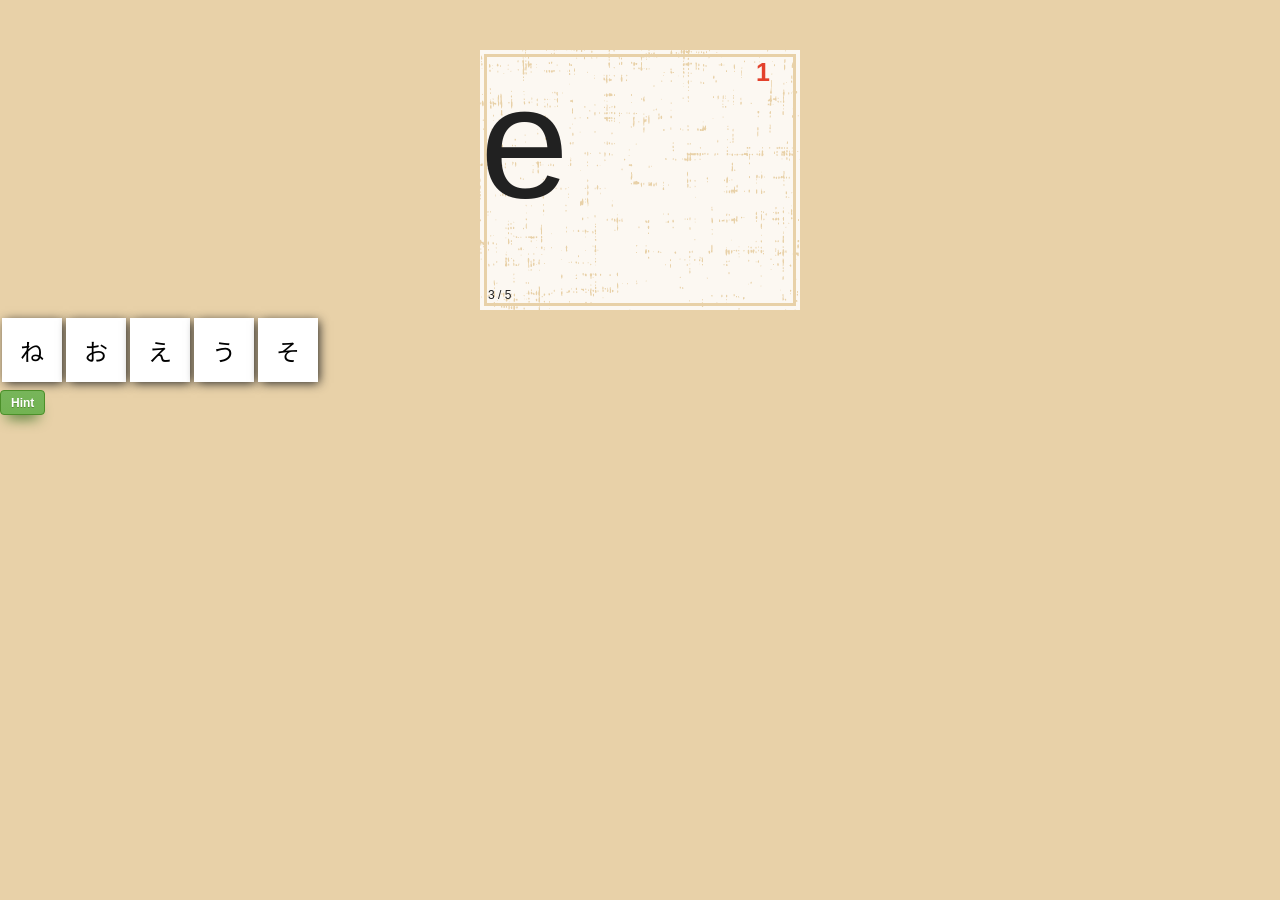
Test: Game page › lists the wrong answers at the end of the game
The image size is (1280, 900).
Earlier steps of the test are not shown.
Click the button "え" at (160, 350), box [130, 318, 190, 382]
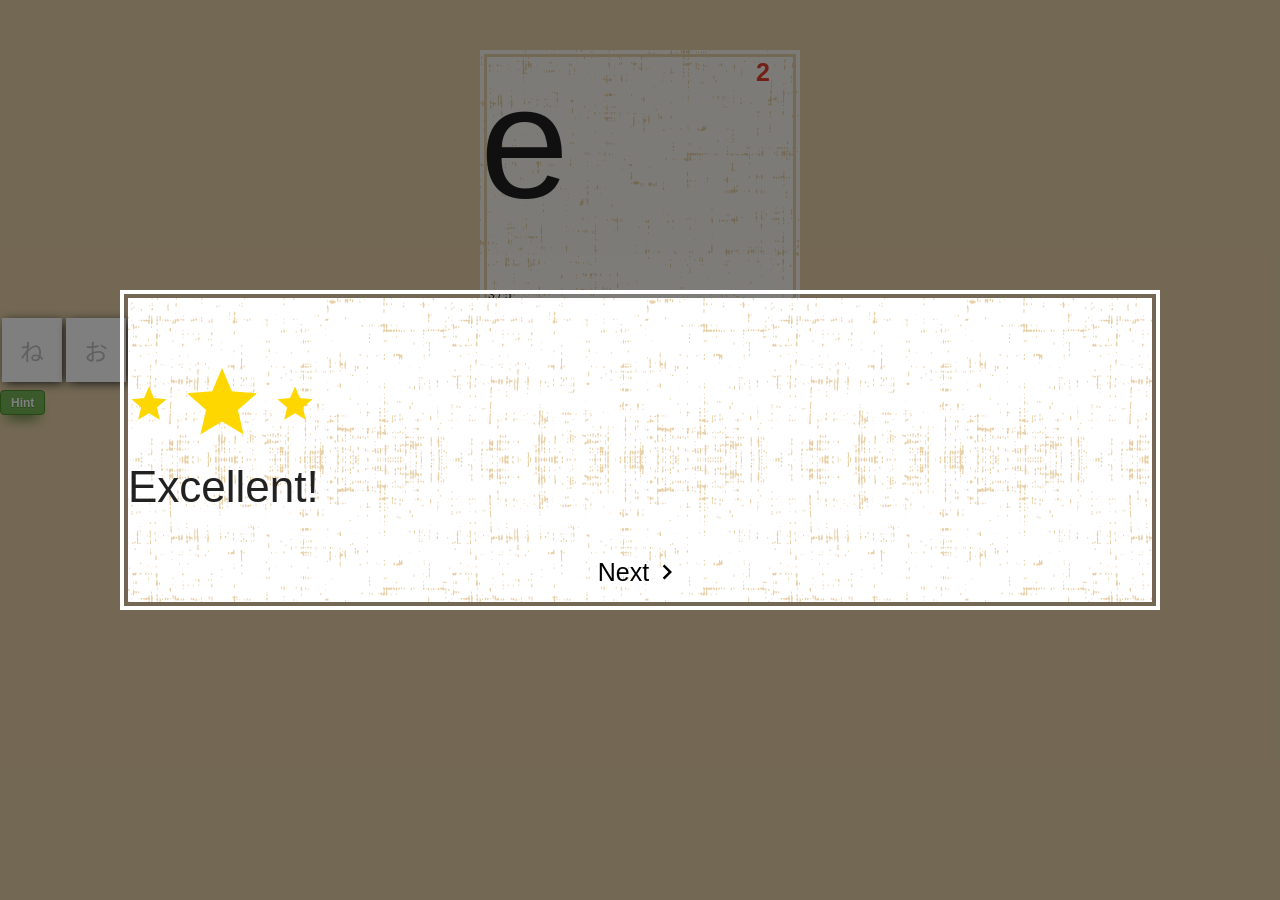
Click the button with class "next-question-button" at (640, 572), box [565, 542, 715, 602]
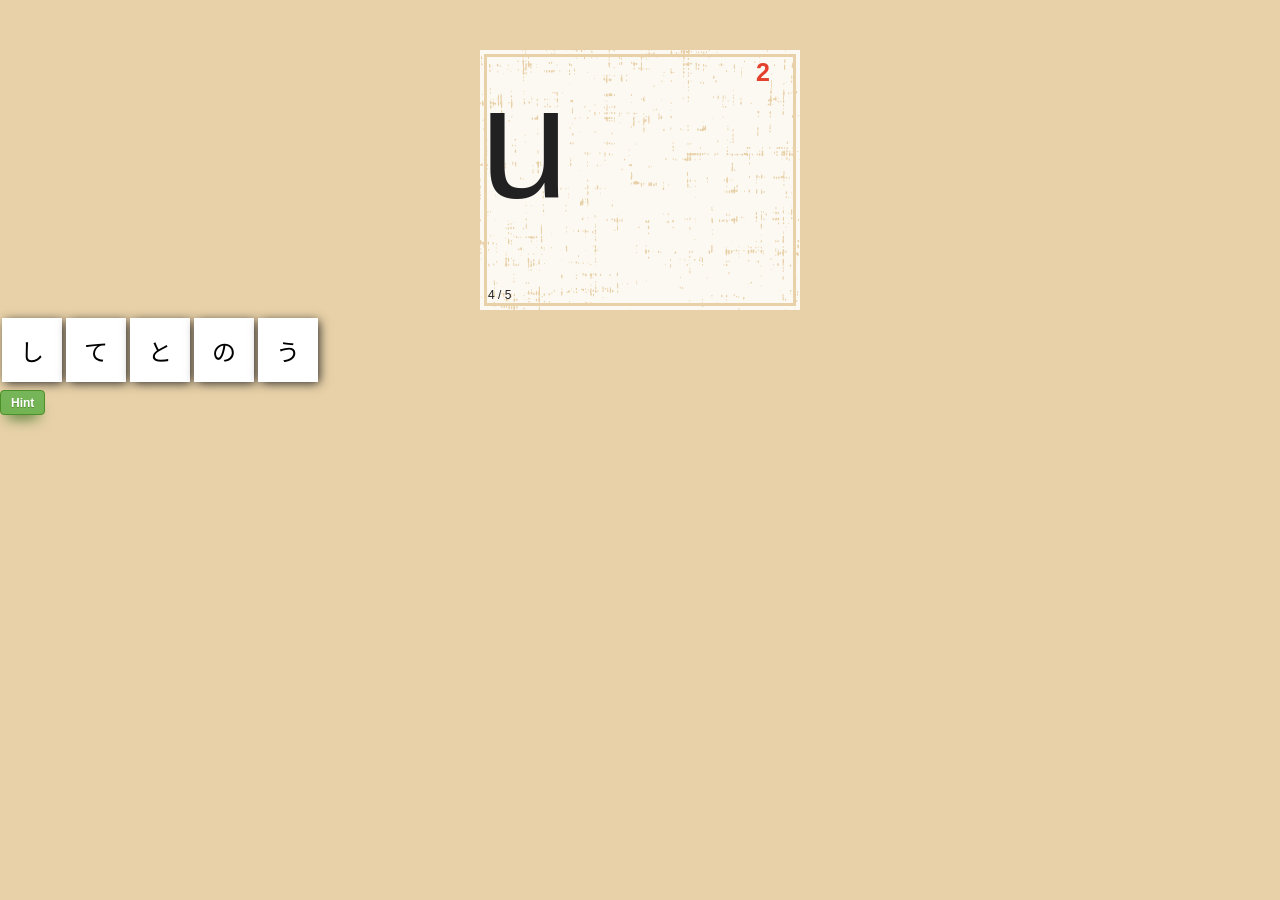
Click the button "う" at (288, 350), box [258, 318, 318, 382]
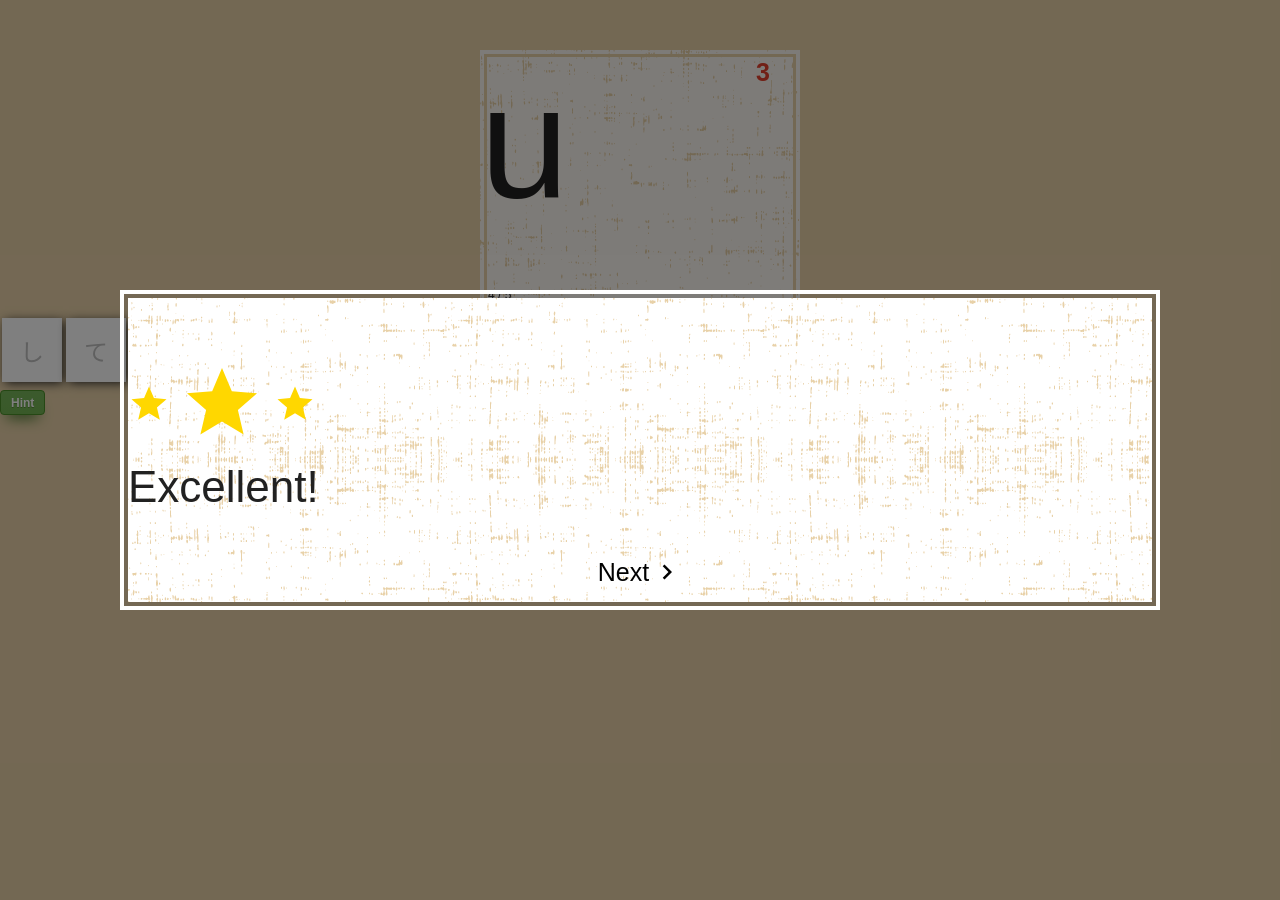
Click the button with class "next-question-button" at (640, 572), box [565, 542, 715, 602]
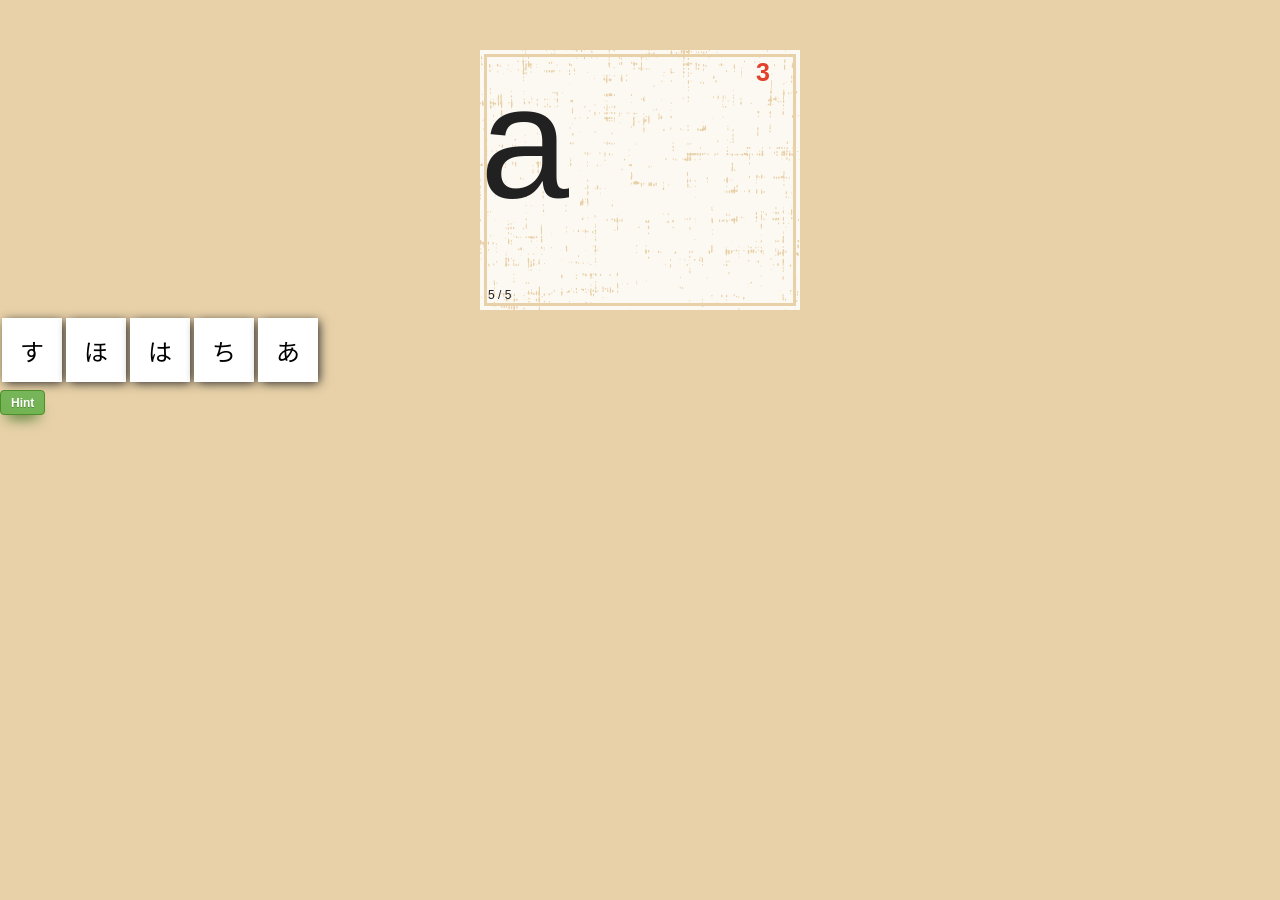
Click the button "あ" at (288, 350), box [258, 318, 318, 382]
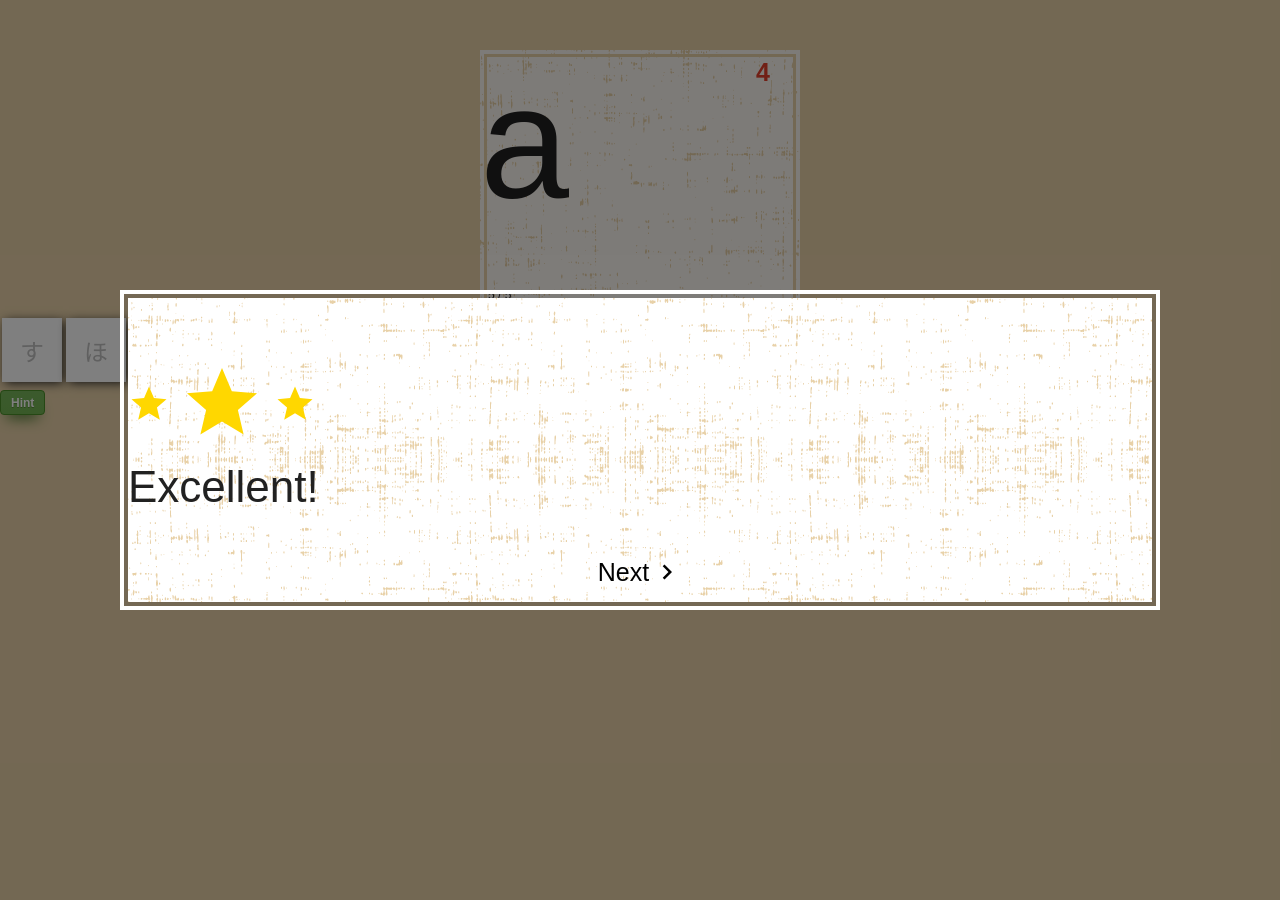
Click the button with class "next-question-button" at (640, 572), box [565, 542, 715, 602]
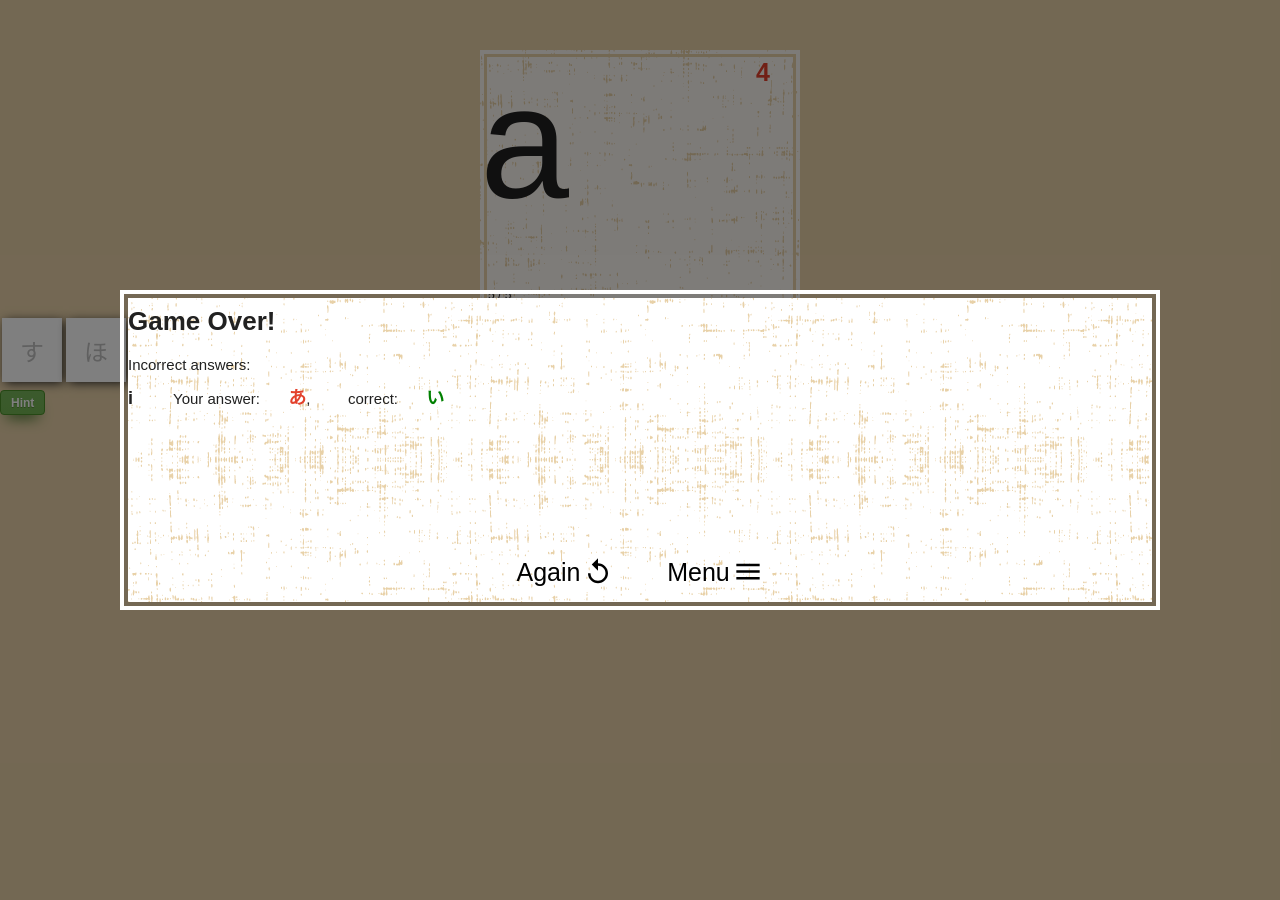
Result: the text with class "go-list-title" reads "Incorrect answers:" at [128, 356, 250, 373]
Result: the number of list items is 1 at [128, 388, 444, 408]
